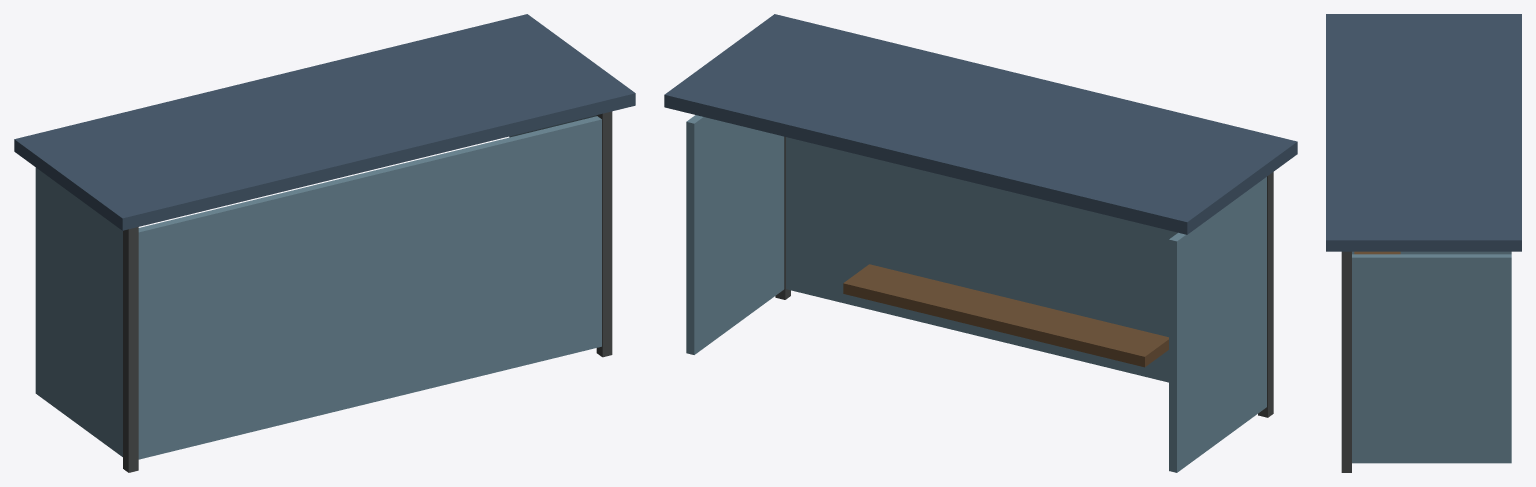
File: BusStop.fbx
3 renders of one model, left to right at view 1: azimuth 30°, elevation 25°; view 2: azimuth 150°, elevation 25°; view 3: azimuth 270°, elevation 25°, orthographic. The views are drawn at different scales.
Visible parts, largest first — view 1: Back, Roof, Side-1, Post-1, Post1; view 2: Roof, Back, Side-1, Side1, Bench, Post-1; view 3: Roof, Side1, Post1, Side-1.
Part boxes in pixels (box(x1,y1,x2,y2)): Back: box(138, 116, 601, 459); Roof: box(14, 14, 635, 230); Side-1: box(35, 167, 122, 456); Post-1: box(123, 227, 138, 472); Post1: box(596, 111, 612, 357); Roof: box(664, 14, 1297, 234); Back: box(786, 137, 1177, 382); Side-1: box(1169, 177, 1266, 472); Side1: box(686, 115, 784, 354); Bench: box(843, 264, 1168, 367); Post-1: box(1258, 172, 1273, 417); Roof: box(1326, 14, 1521, 251); Side1: box(1352, 254, 1511, 463); Post1: box(1341, 251, 1351, 472); Side-1: box(1352, 251, 1511, 254).
Size of the model in its own units: 520 by 190 by 256.
